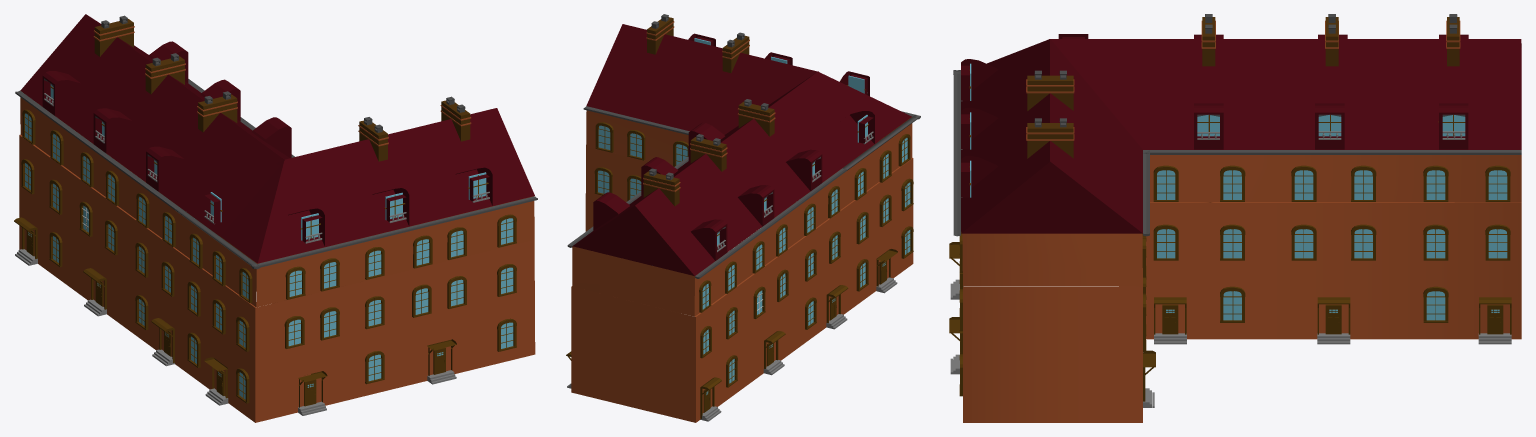
The model's file is ratuszL.fbx.
3 renders of one model, left to right at view 1: azimuth 30°, elevation 25°; view 2: azimuth 150°, elevation 25°; view 3: azimuth 270°, elevation 25°, orthographic. The views are drawn at different scales.
Visible parts, largest first — view 1: Cube, Cube.109, Cube.001, Cube.041, Cube.092, Cube.125, Cube.110, Cube.065, Cube.018, Cube.040, Cube.014, Cube.007 (+26 smaller); view 2: Cube, Cube.001, Cube.109, Cube.041, Cube.092, Cube.125, Cube.110, Cube.018, Cube.049, Cube.014, Cube.005, Cube.007 (+19 smaller); view 3: Cube, Cube.001, Cube.109, Cube.112, Cube.092, Cube.041, Cube.065, Cube.110, Cube.049, Cube.082, Cube.015, Cube.018 (+10 smaller).
Part boxes in pixels (box(x1,y1,x2,y2)): Cube: box(19, 93, 535, 422); Cube.109: box(220, 108, 534, 263); Cube.001: box(20, 14, 289, 236); Cube.041: box(42, 41, 291, 191); Cube.092: box(21, 109, 175, 329); Cube.125: box(25, 113, 171, 325); Cube.110: box(15, 79, 294, 269); Cube.065: box(251, 196, 537, 268); Cube.018: box(14, 217, 174, 362); Cube.040: box(427, 339, 456, 384); Cube.014: box(145, 56, 184, 94); Cube.007: box(94, 19, 133, 56); Cube: box(571, 110, 913, 422); Cube.001: box(572, 71, 878, 275); Cube.109: box(586, 24, 911, 140); Cube.041: box(593, 122, 822, 260); Cube.092: box(699, 186, 840, 387); Cube.125: box(702, 189, 837, 383); Cube.110: box(567, 115, 919, 278); Cube.018: box(566, 285, 848, 418); Cube.049: box(702, 191, 838, 382); Cube.014: box(690, 137, 726, 171); Cube.005: box(738, 101, 774, 136); Cube.007: box(643, 171, 679, 206); Cube: box(962, 155, 1521, 422); Cube.001: box(1049, 39, 1521, 149); Cube.109: box(961, 39, 1142, 233); Cube.112: box(1157, 170, 1507, 320); Cube.092: box(1153, 165, 1510, 322); Cube.041: box(1194, 34, 1468, 149); Cube.065: box(953, 70, 1149, 236); Cube.110: box(953, 70, 1521, 154); Cube.049: box(1157, 170, 1507, 320); Cube.082: box(1162, 304, 1503, 334); Cube.015: box(1197, 115, 1465, 136); Cube.018: box(1154, 297, 1511, 334).
Bounding box in the file's own units: 628 × 487 × 906.
153 materials, 153 textured.
